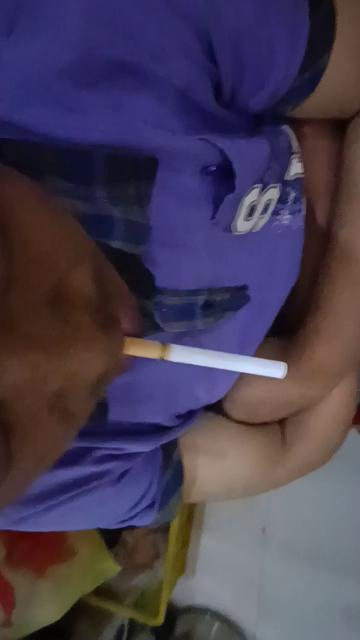Smoking: (122, 334, 288, 380)
